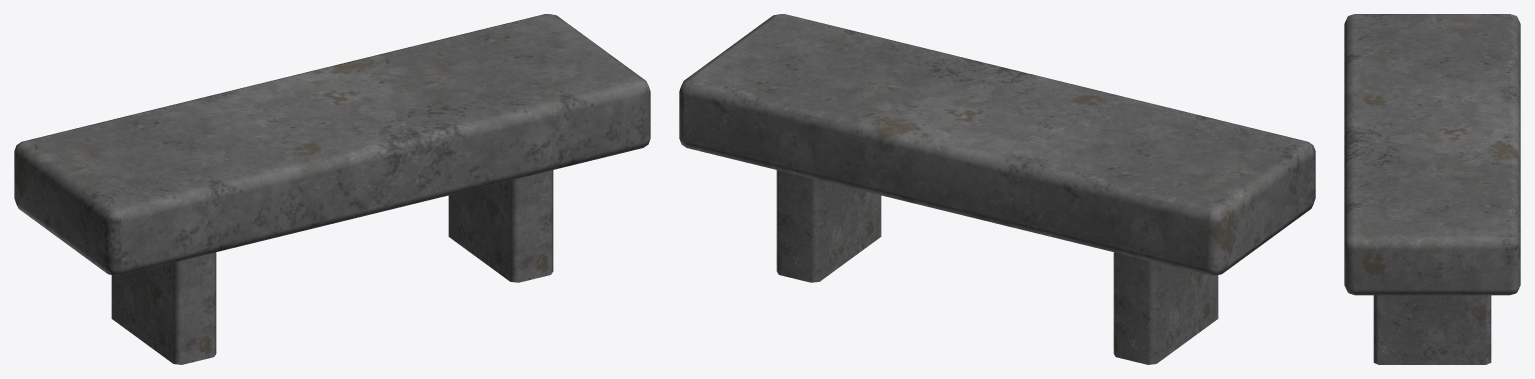
File: bench3.glb
The picture shows the model from 3 angles, left to right: view 1: azimuth 30°, elevation 25°; view 2: azimuth 150°, elevation 25°; view 3: azimuth 270°, elevation 25°; orthographic projection. The views are drawn at different scales.
Visible parts, largest first — view 1: SM_Bench03; view 2: SM_Bench03; view 3: SM_Bench03.
Boxes of the visible parts, left/top/right/bottom form: SM_Bench03: left=14, top=14, right=650, bottom=364; SM_Bench03: left=679, top=14, right=1315, bottom=364; SM_Bench03: left=1344, top=14, right=1520, bottom=364.
Size of the model in its own units: 1.58 by 0.5127 by 0.5127.
Materials: 1 (1 with a texture image).
